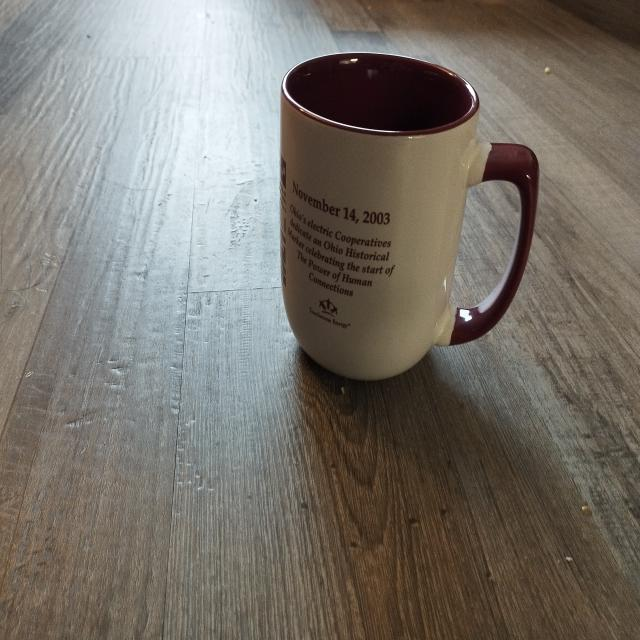Cup: (263, 30, 568, 415)
